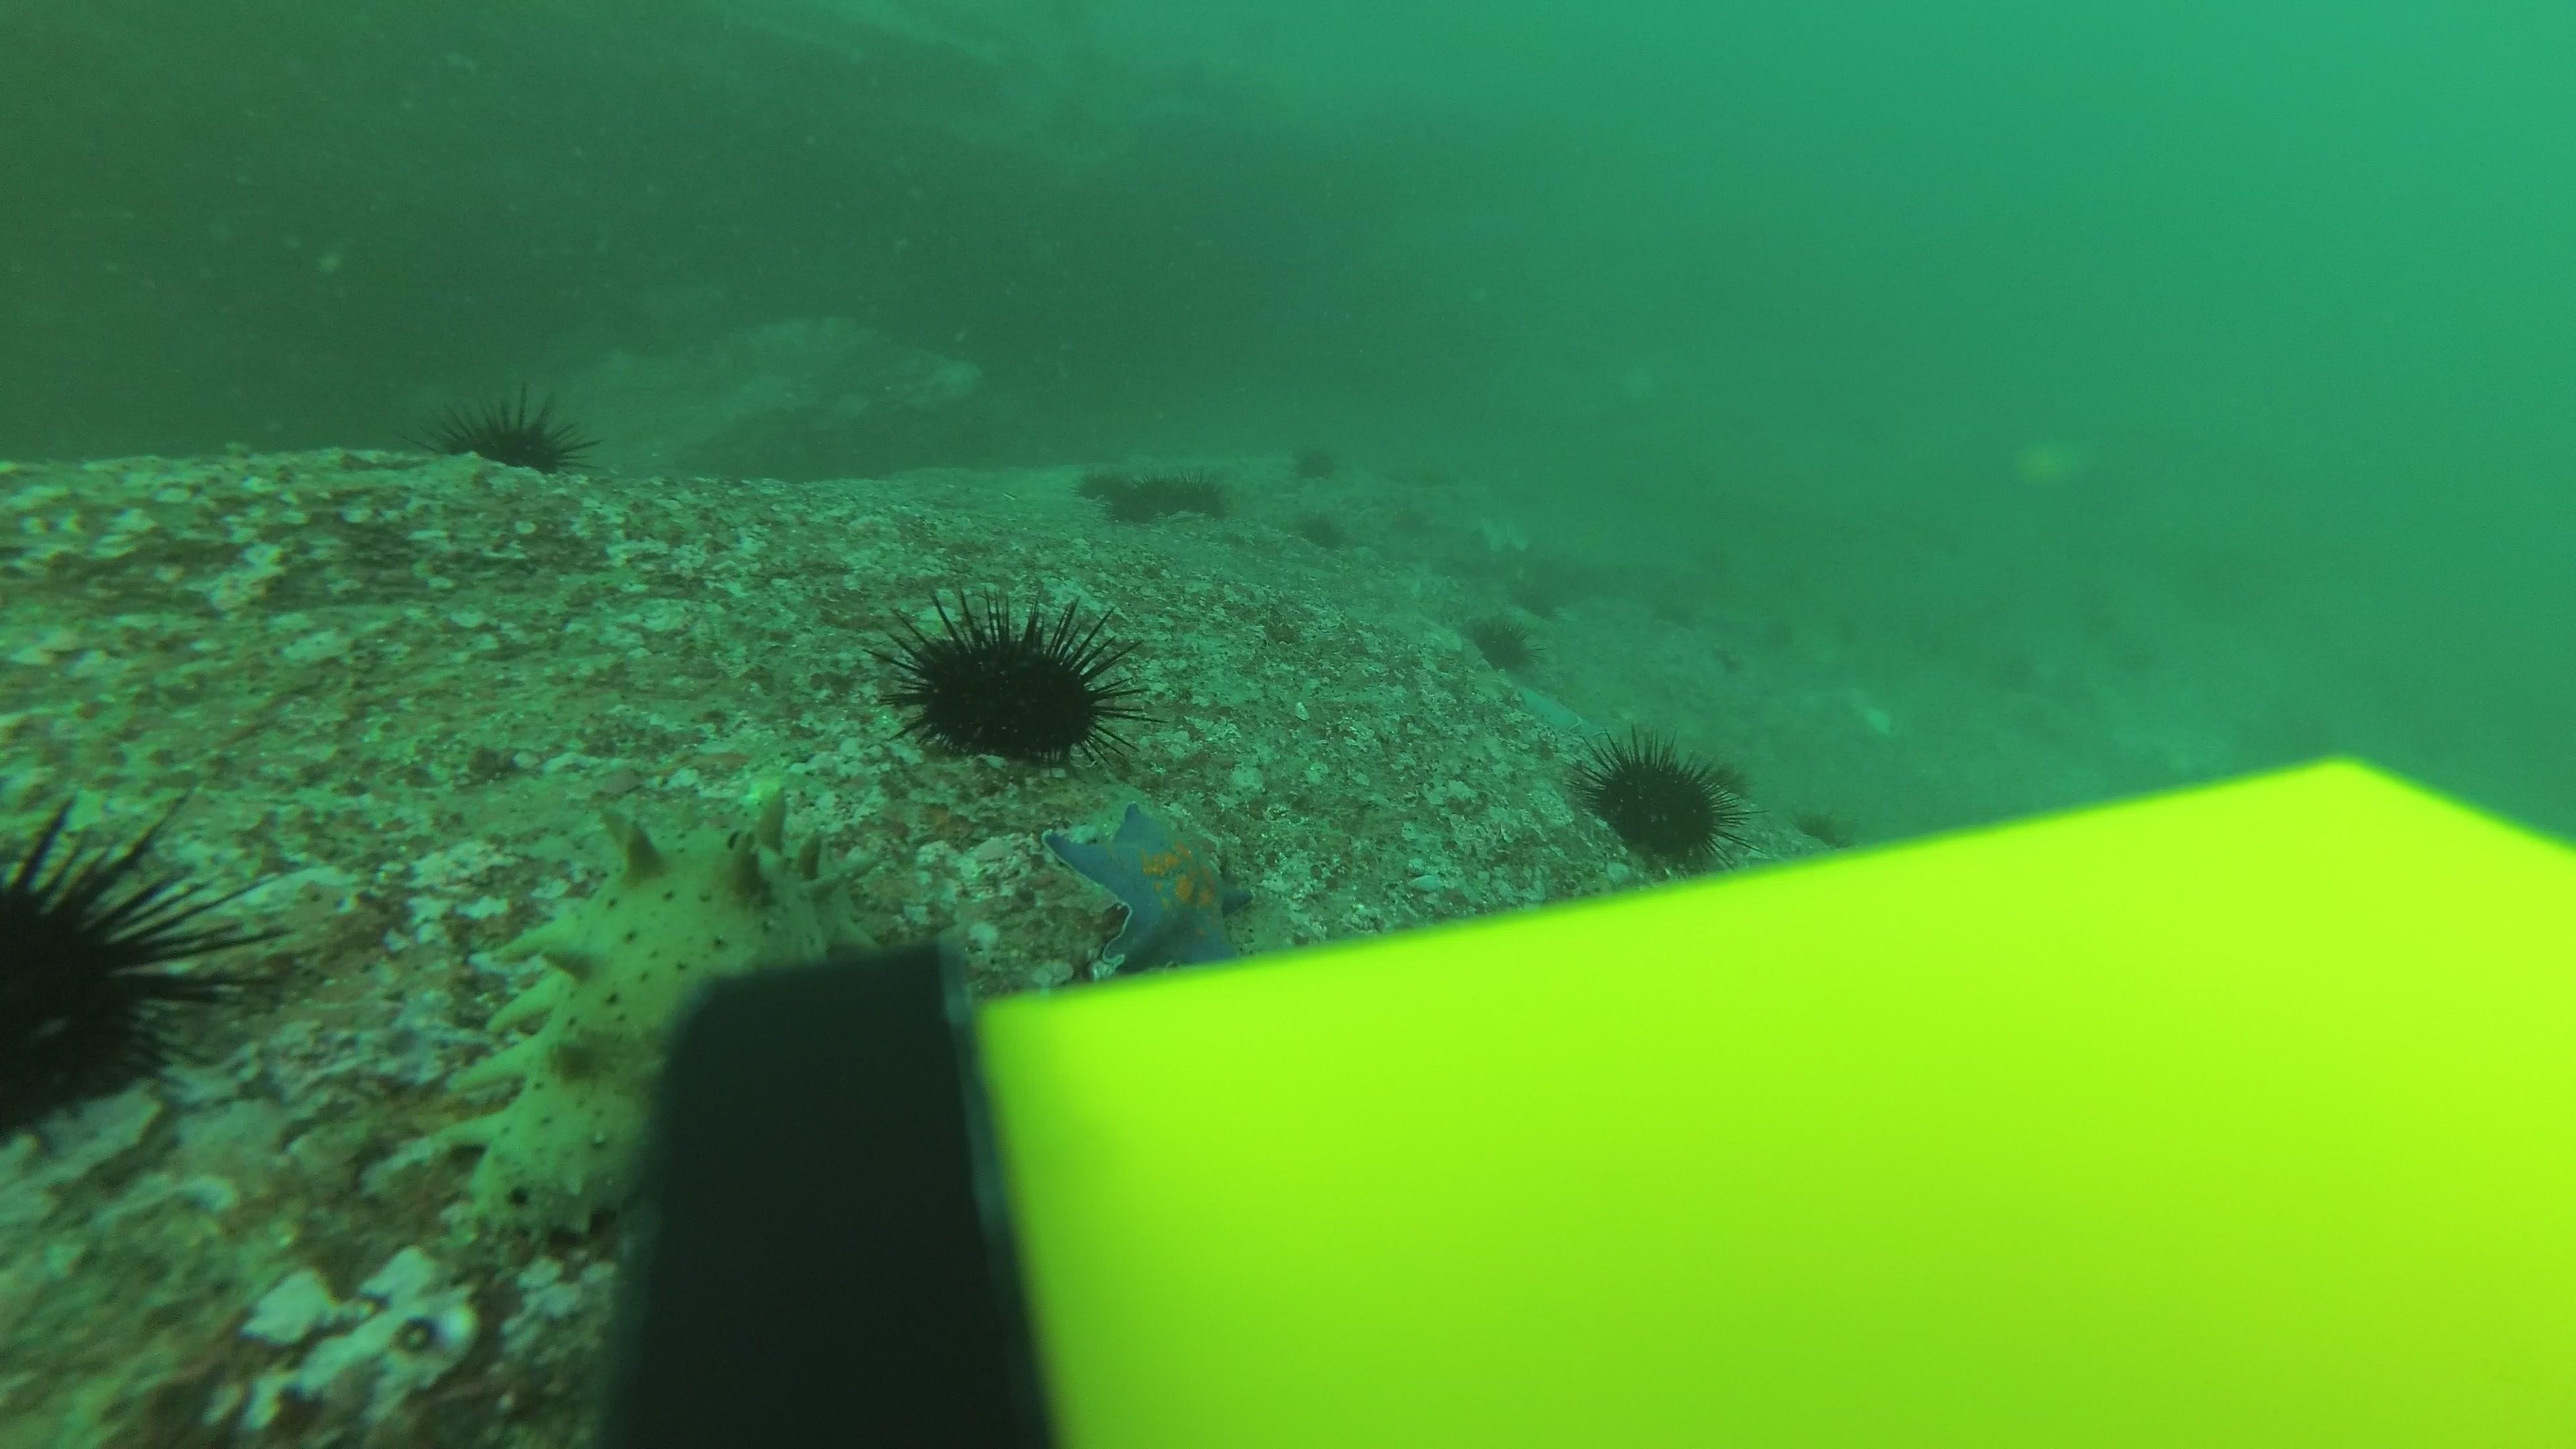echinus: (0, 784, 304, 1150), (883, 587, 1138, 770), (1580, 729, 1746, 867), (446, 389, 587, 479), (1463, 609, 1541, 674), (1104, 483, 1161, 527), (1290, 437, 1341, 483), (1295, 508, 1348, 552), (1134, 474, 1189, 517), (1177, 478, 1231, 520), (1706, 639, 1748, 678), (1690, 538, 1732, 577), (1759, 616, 1801, 653), (1656, 596, 1698, 633), (1076, 465, 1120, 499), (1387, 506, 1430, 540)
holothurian: (446, 800, 892, 1256)
starfish: (1042, 793, 1256, 971), (1504, 678, 1596, 740)
